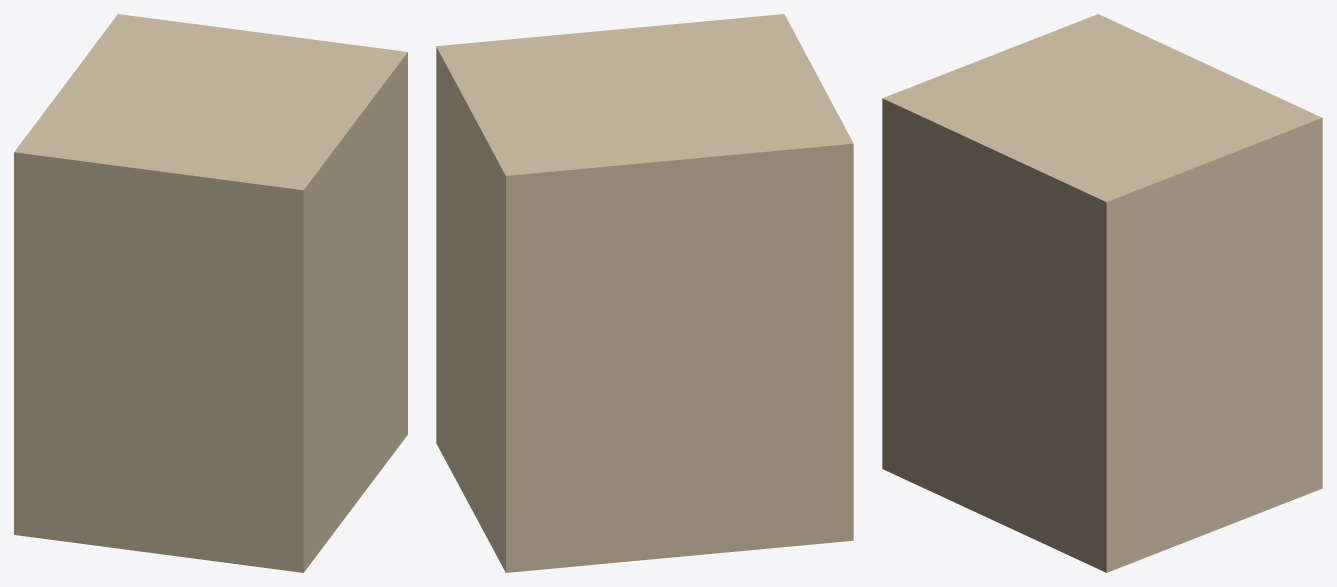
Rendered from -1_7-estimated-coarse.glb.
3 renders of one model, left to right at view 1: azimuth 30°, elevation 25°; view 2: azimuth 150°, elevation 25°; view 3: azimuth 270°, elevation 25°, orthographic. The views are drawn at different scales.
Size of the model in its own units: 13.07 by 12 by 12.91.
